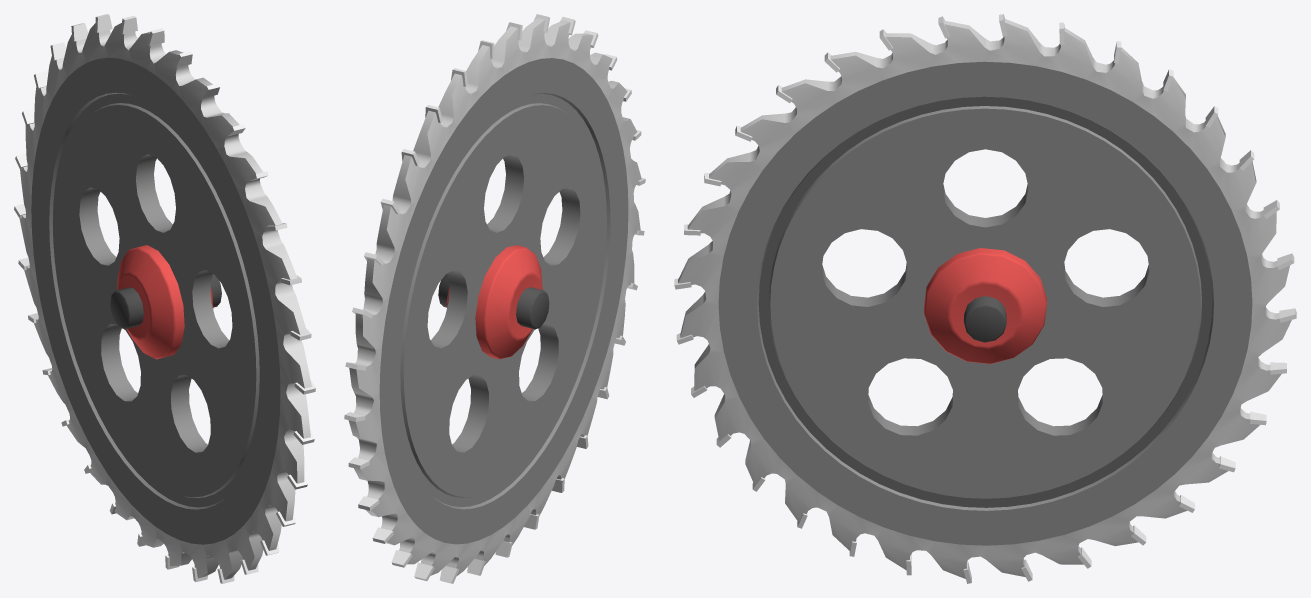
The model's file is obstacle_8_006.fbx.
The picture shows the model from 3 angles, left to right: view 1: azimuth 30°, elevation 25°; view 2: azimuth 150°, elevation 25°; view 3: azimuth 270°, elevation 25°; orthographic projection. The views are drawn at different scales.
Parts seen in each view (by area): view 1: obstacle_8_006; view 2: obstacle_8_006; view 3: obstacle_8_006.
Boxes of the visible parts, x1,y1,x2,y2 form: obstacle_8_006: [14, 14, 315, 583]; obstacle_8_006: [344, 14, 645, 583]; obstacle_8_006: [674, 14, 1296, 583].
Bounding box in the file's own units: 197 × 1054 × 1054.
